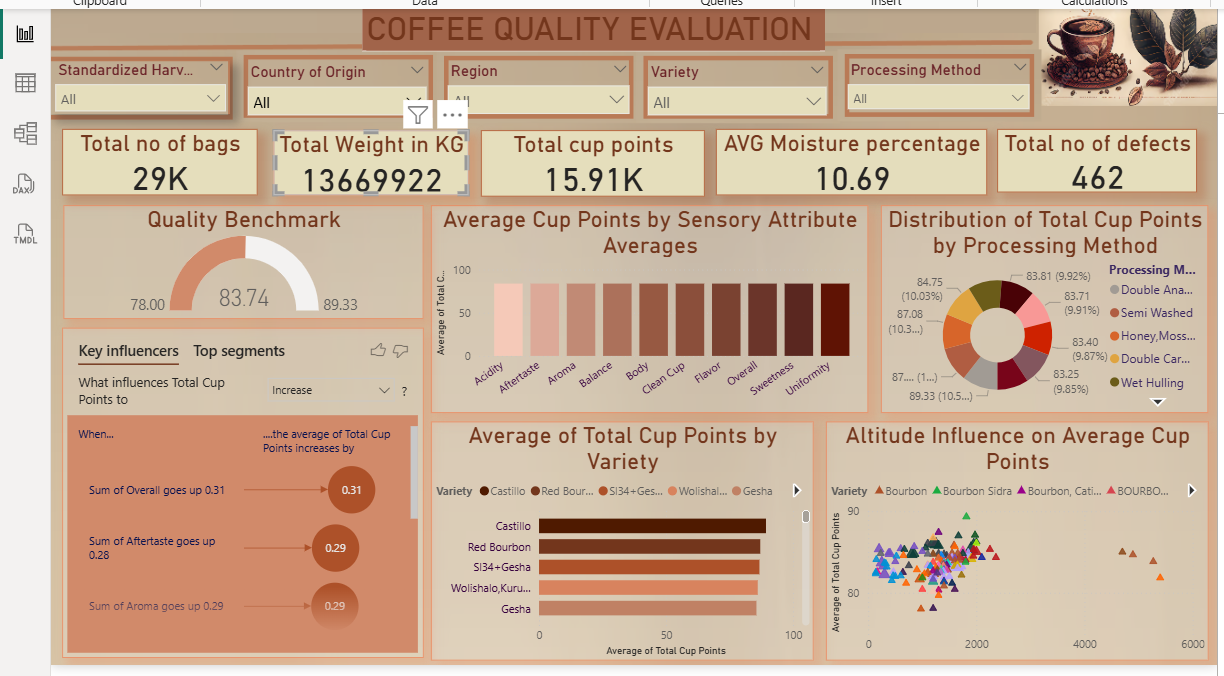

The dashboard page shown, as its layout file describes it:
{"tool":"powerbi","page":{"name":"key_metrics","canvas":[1280,720],"ordinal":0},"visuals":[{"type":"slicer","fields":{"Values":["cleaned_data.Standardized Harvest Year"]},"box":[0,56.7,196.7,58.9],"z":0},{"type":"slicer","fields":{"Values":["cleaned_data.Country of Origin"]},"box":[211.1,58.9,205.6,72.2],"z":1000},{"type":"slicer","fields":{"Values":["cleaned_data.Region"]},"box":[431.1,57.8,208.9,58.9],"z":2000},{"type":"slicer","fields":{"Values":["cleaned_data.Variety"]},"box":[651.1,58.9,205.6,64.4],"z":3000},{"type":"slicer","fields":{"Values":["cleaned_data.Processing Method"]},"box":[870,56.7,208.9,63.3],"z":4000},{"type":"card","title":"   Total no of bags","fields":{"Values":["Sum(cleaned_data.Number of Bags)"]},"box":[12.3,131.7,214.1,72.7],"z":5000},{"type":"card","title":"Total cup points","fields":{"Values":["Sum(cleaned_data.Total Cup Points)"]},"box":[472,133.1,245.6,72.7],"z":6000},{"type":"card","title":"AVG Moisture percentage","fields":{"Values":["Avg(cleaned_data.Moisture Percentage)"]},"box":[730,131.7,297.8,72.7],"z":7000},{"type":"card","title":"Total no of defects","fields":{"Values":["cleaned_data.Total defects"]},"box":[1038.8,131.7,219.6,70],"z":8000},{"type":"columnChart","title":"Average Cup Points by Sensory Attribute Averages","fields":{"Category":["AttributeSelection.Attribute"],"Y":["Avg(cleaned_data.Total Cup Points)"],"Series":["AttributeSelection.Attribute"]},"box":[417.2,215.4,480.3,227.8],"z":9000},{"type":"scatterChart","title":"Altitude Influence on Average Cup Points","fields":{"X":["cleaned_data.Altitude"],"Y":["Avg(cleaned_data.Total Cup Points)"],"Size":["Sum(cleaned_data.Total Cup Points)"],"Series":["cleaned_data.Variety"]},"box":[850.8,452.8,419.9,262.1],"z":10000},{"type":"donutChart","title":"Distribution of Total Cup Points by Processing Method","fields":{"Category":["cleaned_data.Processing Method"],"Y":["Avg(cleaned_data.Total Cup Points)"]},"box":[911.2,215.4,359.5,227.8],"z":11000},{"type":"card","title":"Total Weight in KG","fields":{"Values":["cleaned_data.Total Quantity"]},"box":[244.3,133.1,214.1,71.4],"z":13000},{"type":"gauge","title":"Quality Benchmark","fields":{"MinValue":["Min(cleaned_data.Total Cup Points)"],"MaxValue":["Max(cleaned_data.Total Cup Points)"],"Y":["Avg(cleaned_data.Total Cup Points)"]},"box":[13.7,215.4,395.2,124.9],"z":14000},{"type":"keyDriversVisual","fields":{"Target":["cleaned_data.Total Cup Points"],"ExplainBy":["Sum(cleaned_data.Overall)","Sum(cleaned_data.Acidity)","Sum(cleaned_data.Uniformity)","Sum(cleaned_data.Aftertaste)","Sum(cleaned_data.Aroma)","Sum(cleaned_data.Balance)","Sum(cleaned_data.Flavor)","Sum(cleaned_data.Body)","Sum(cleaned_data.Clean Cup)","Sum(cleaned_data.Sweetness)"]},"box":[12.3,349.9,396.6,362.3],"z":15000},{"type":"textbox","title":"COFFEE QUALITY EVALUATION","box":[341.7,0,507.7,46.7],"z":16000},{"type":"barChart","title":"Average of Total Cup Points by Variety ","fields":{"Category":["cleaned_data.Variety"],"Y":["Avg(cleaned_data.Total Cup Points)"],"Series":["cleaned_data.Variety"]},"box":[417.2,452.8,419.9,262.1],"z":17000}]}

Visuals, with their boxes on the page's 1280x720 design canvas (x1, y1, x2, y2). These are canvas units, not pixel positions in the 1224x676 screenshot, which may show the page scaled, cropped or inside an application window:
slicer - cleaned_data.Standardized Harvest Year: {"x1": 0, "y1": 57, "x2": 197, "y2": 116}
slicer - cleaned_data.Country of Origin: {"x1": 211, "y1": 59, "x2": 417, "y2": 131}
slicer - cleaned_data.Region: {"x1": 431, "y1": 58, "x2": 640, "y2": 117}
slicer - cleaned_data.Variety: {"x1": 651, "y1": 59, "x2": 857, "y2": 123}
slicer - cleaned_data.Processing Method: {"x1": 870, "y1": 57, "x2": 1079, "y2": 120}
"   Total no of bags" card: {"x1": 12, "y1": 132, "x2": 226, "y2": 204}
"Total cup points" card: {"x1": 472, "y1": 133, "x2": 718, "y2": 206}
"AVG Moisture percentage" card: {"x1": 730, "y1": 132, "x2": 1028, "y2": 204}
"Total no of defects" card: {"x1": 1039, "y1": 132, "x2": 1258, "y2": 202}
"Average Cup Points by Sensory Attribute Averages" columnChart: {"x1": 417, "y1": 215, "x2": 898, "y2": 443}
"Altitude Influence on Average Cup Points" scatterChart: {"x1": 851, "y1": 453, "x2": 1271, "y2": 715}
"Distribution of Total Cup Points by Processing Method" donutChart: {"x1": 911, "y1": 215, "x2": 1271, "y2": 443}
"Total Weight in KG" card: {"x1": 244, "y1": 133, "x2": 458, "y2": 204}
"Quality Benchmark" gauge: {"x1": 14, "y1": 215, "x2": 409, "y2": 340}
keyDriversVisual - cleaned_data.Total Cup Points x Sum(cleaned_data.Overall): {"x1": 12, "y1": 350, "x2": 409, "y2": 712}
"COFFEE QUALITY EVALUATION" textbox: {"x1": 342, "y1": 0, "x2": 849, "y2": 47}
"Average of Total Cup Points by Variety " barChart: {"x1": 417, "y1": 453, "x2": 837, "y2": 715}
